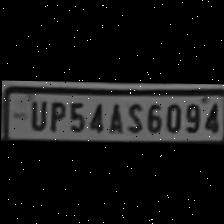0: (161, 99, 181, 133)
4: (200, 100, 222, 132), (84, 98, 104, 133)
5: (64, 98, 84, 133)
6: (142, 98, 162, 132)
9: (182, 100, 200, 134)
A: (102, 99, 124, 134)
P: (45, 97, 65, 132)
S: (122, 99, 144, 134)
U: (24, 96, 46, 130)
